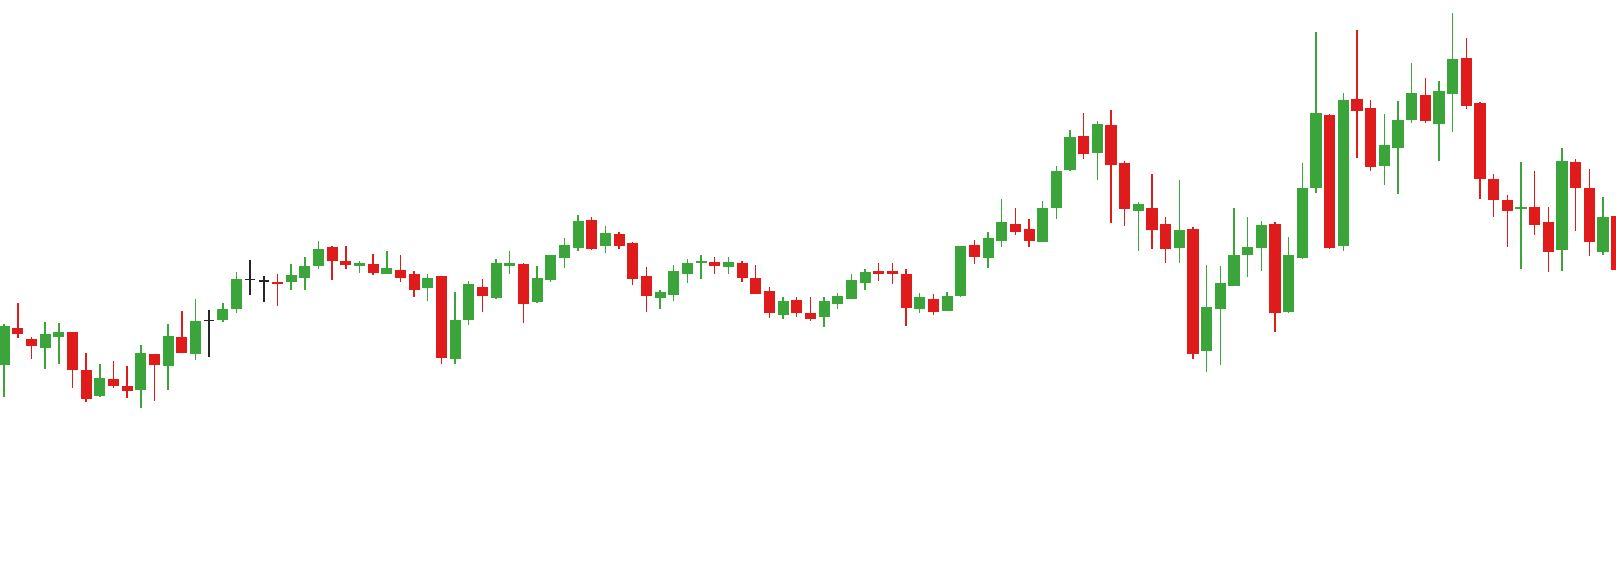buy: (203, 278, 462, 372)
sell: (1351, 12, 1471, 154)
